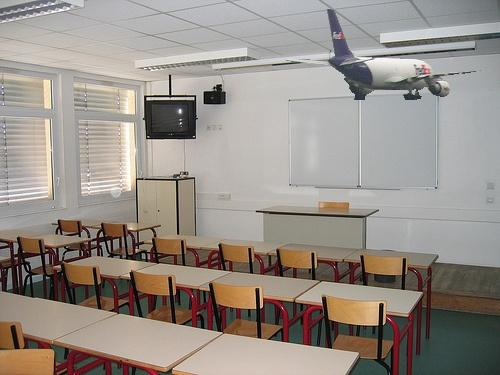tampered: (287, 10, 481, 100)
